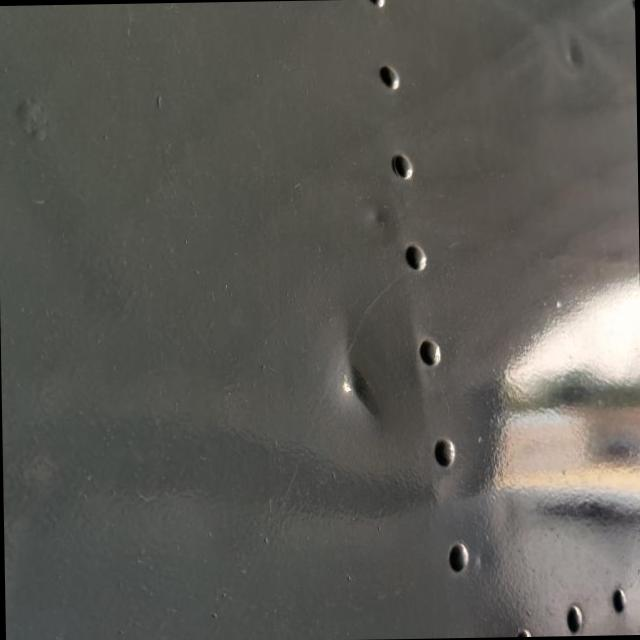Dent: (315, 283, 405, 444)
